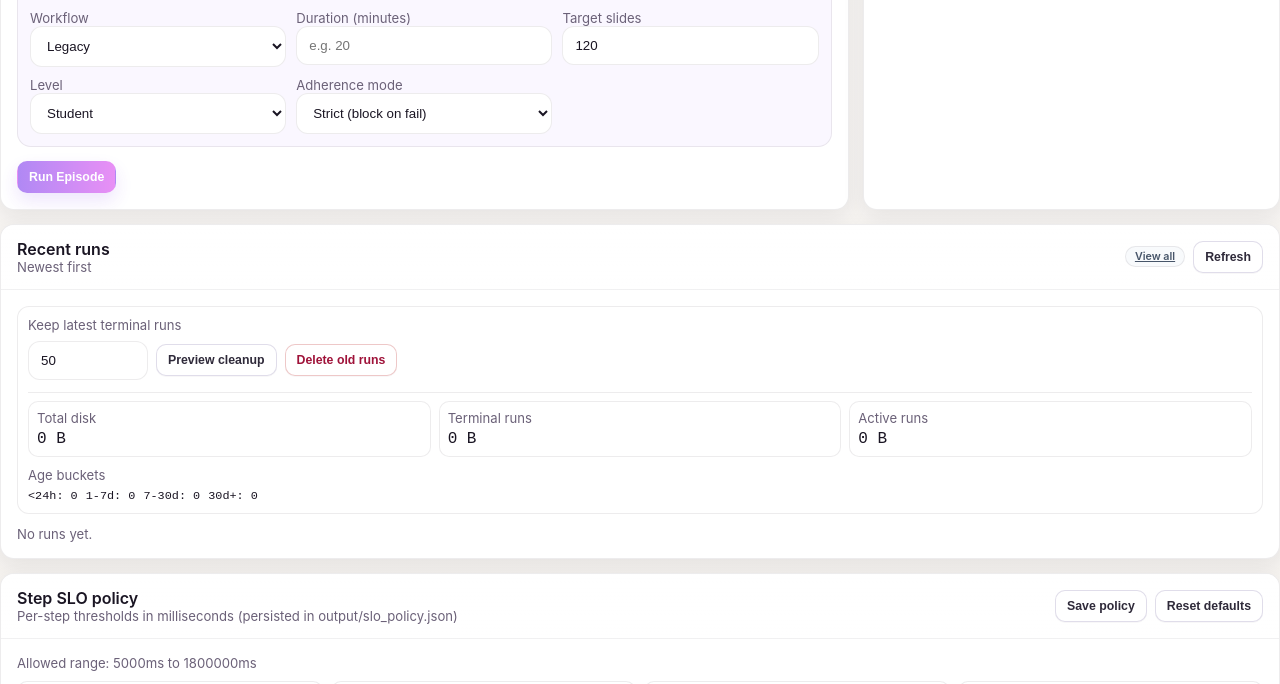
Scenario: ChatStart › shows cleanup errors
The image size is (1280, 684).
(page scrolled)
Expected: the text "Recent runs" is shown, [17, 239, 110, 259]
Click the button "Preview cleanup". click: click(216, 360)
box: [156, 344, 276, 376]
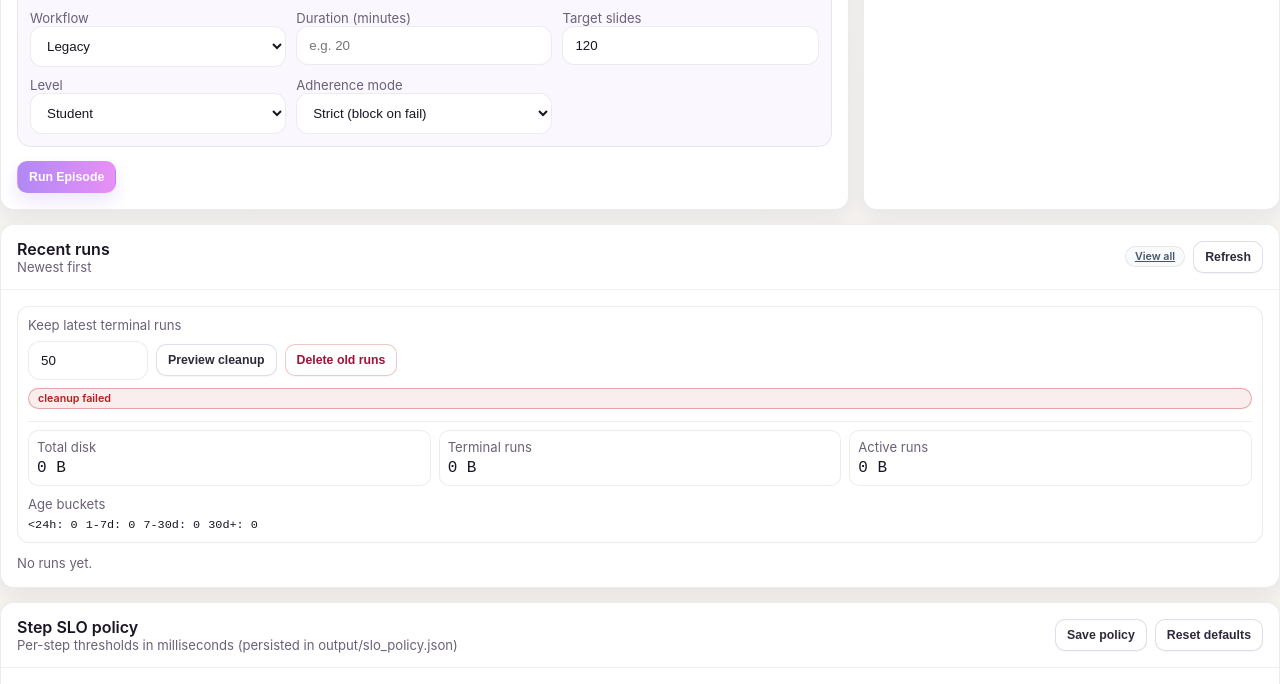
Expected: the text "cleanup failed" is shown, [28, 388, 1252, 409]
